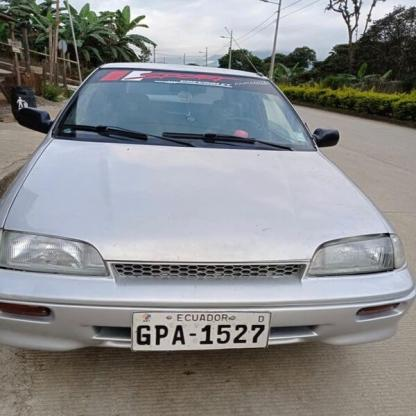Placa: (132, 309, 273, 357)
